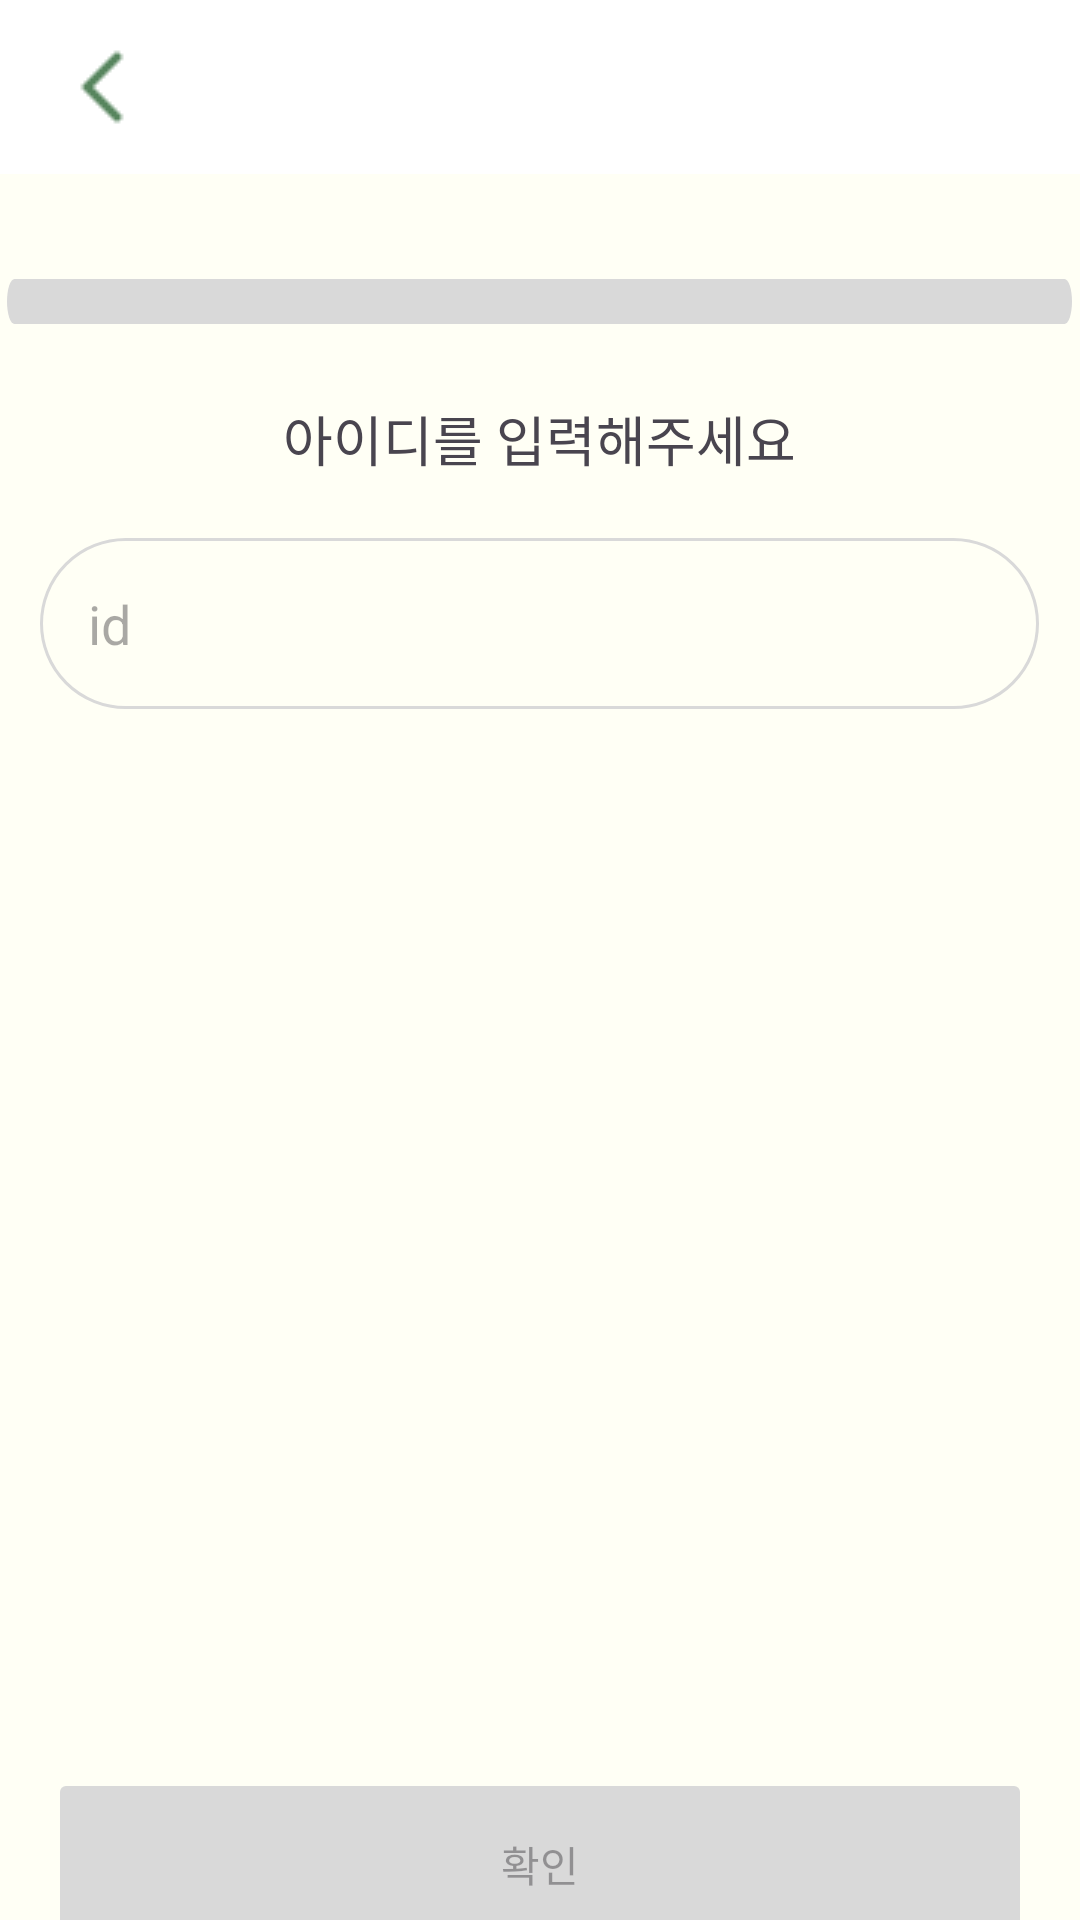

Icon bounding boxes for this 1080px x 1920px phone screenshot, format {"left": x1, "top": y1, "right": x2, "bottom": y2}:
arrow left: {"left": 81, "top": 51, "right": 123, "bottom": 123}
